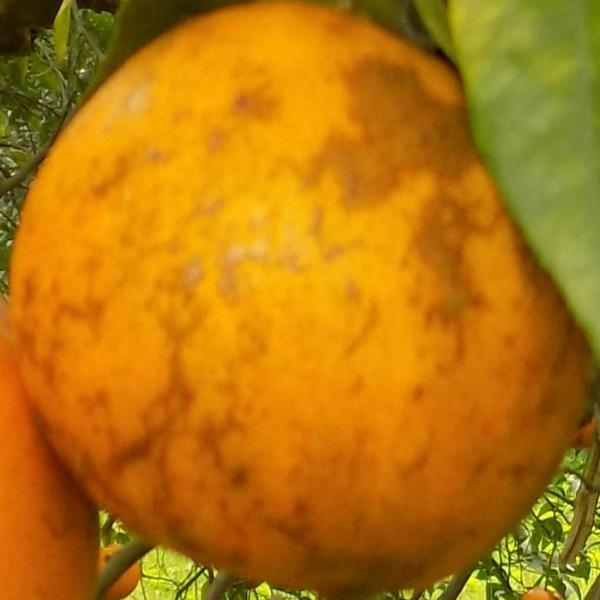Canker: (2, 0, 594, 593)
